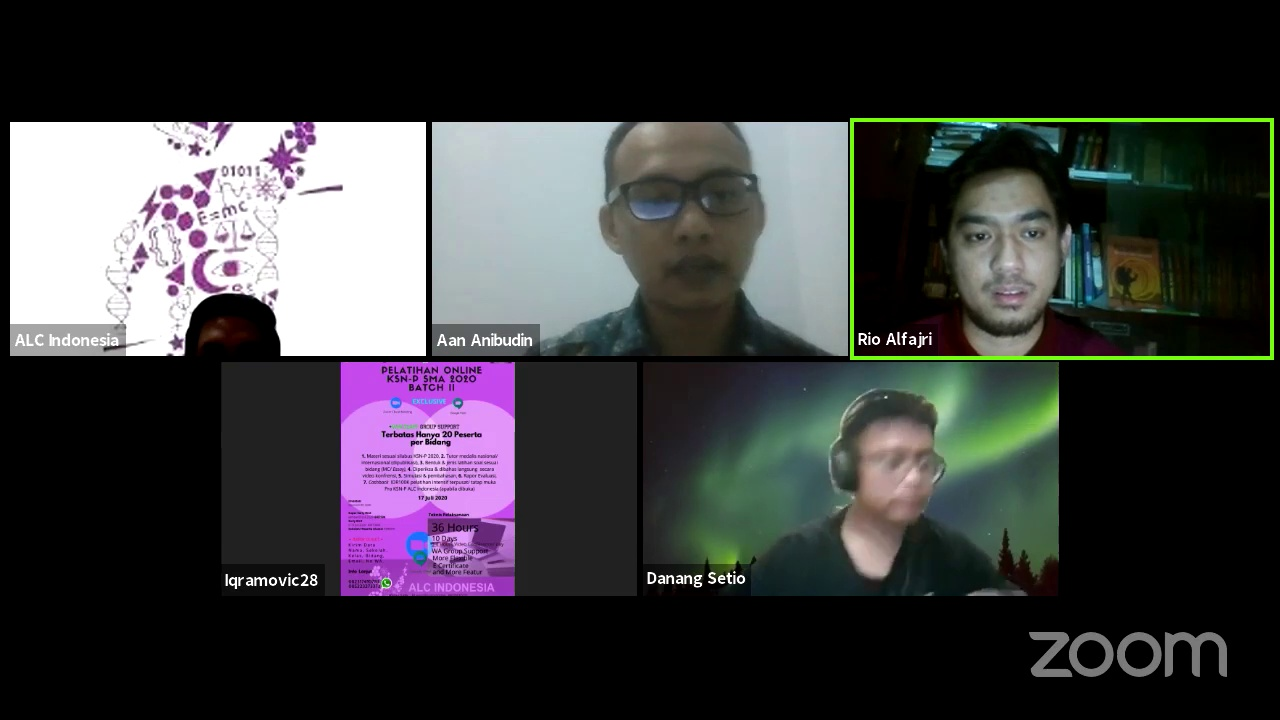Distracted: (824, 398, 953, 529)
Not Distracted: (592, 135, 783, 312), (934, 162, 1075, 335)
